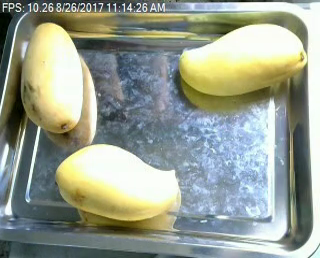Mango: (55, 143, 179, 223), (178, 23, 305, 97), (21, 23, 83, 133)
